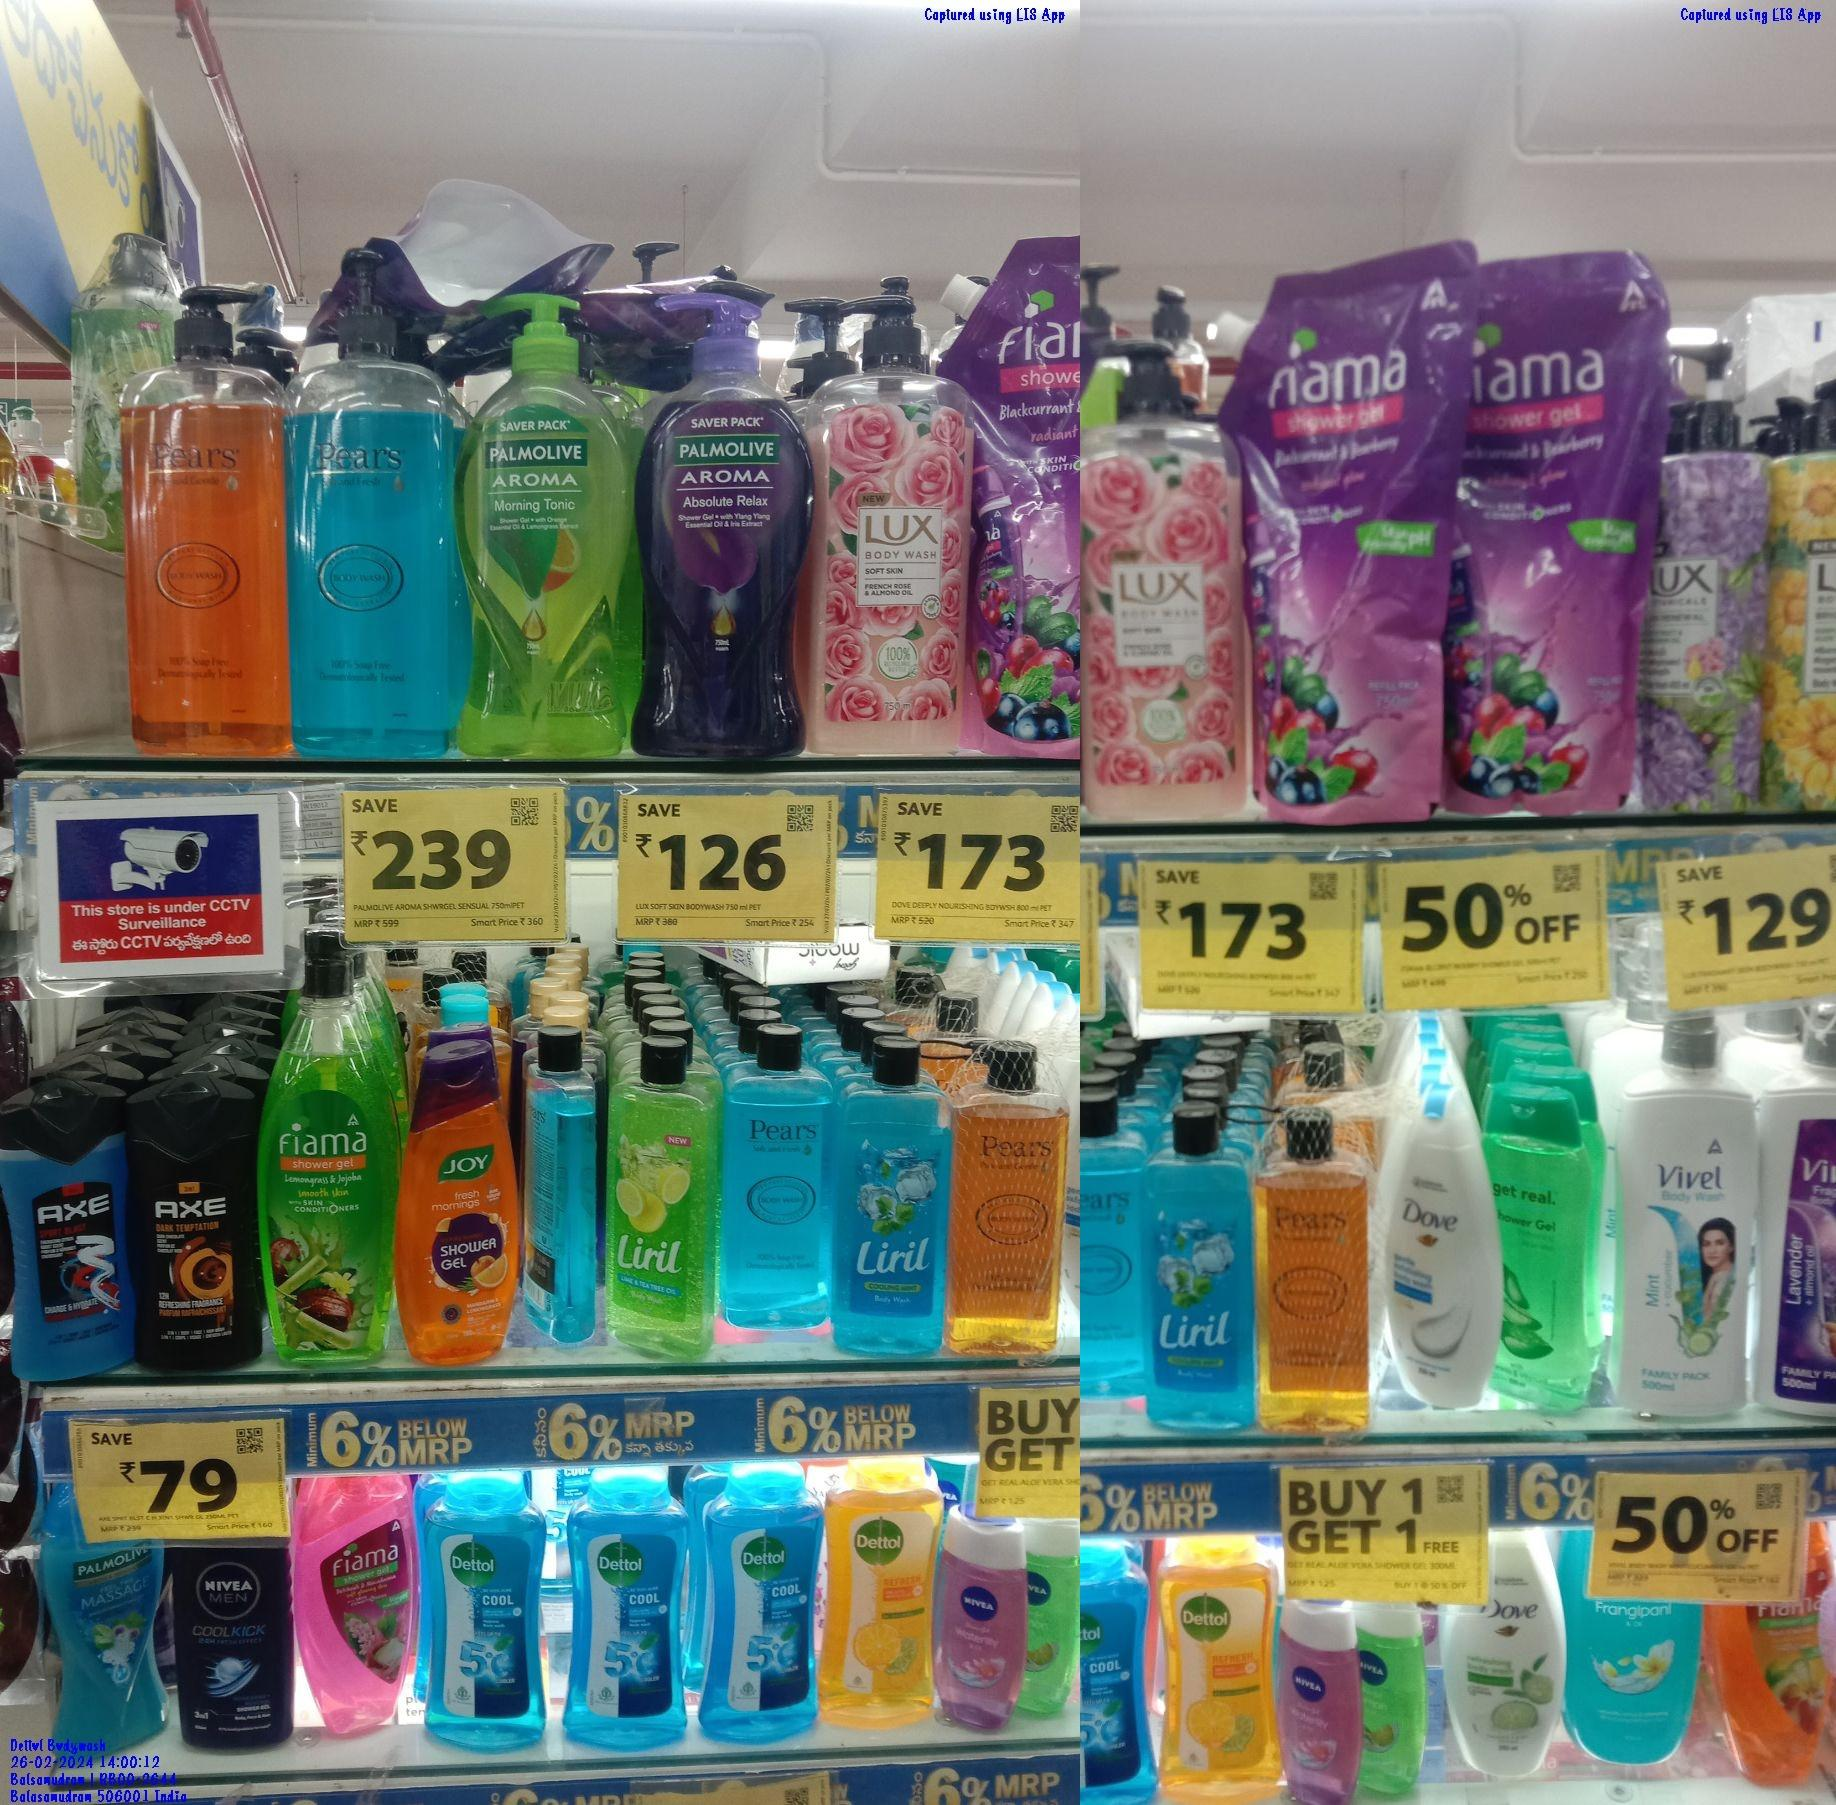Dettol_Bodywash_Cool: (420, 1473, 554, 1750), (560, 1464, 689, 1749), (691, 1461, 821, 1741)
Dettol_Bodywash_Refresh: (1153, 1531, 1284, 1805), (823, 1453, 945, 1732)
Dove_Gentle_Exfoliating_Body_Wash_250ML: (1377, 1083, 1494, 1408)
Dove_Refreshing_Body_Wash_250ML: (1439, 1524, 1568, 1779)
Fiama_Shower_Gel_Patchouli_and_Macadamia_250ML: (288, 1466, 413, 1734)
Nivea_Shower_Gel_Waterlily_and_Oil_250ML: (942, 1491, 1030, 1736)
